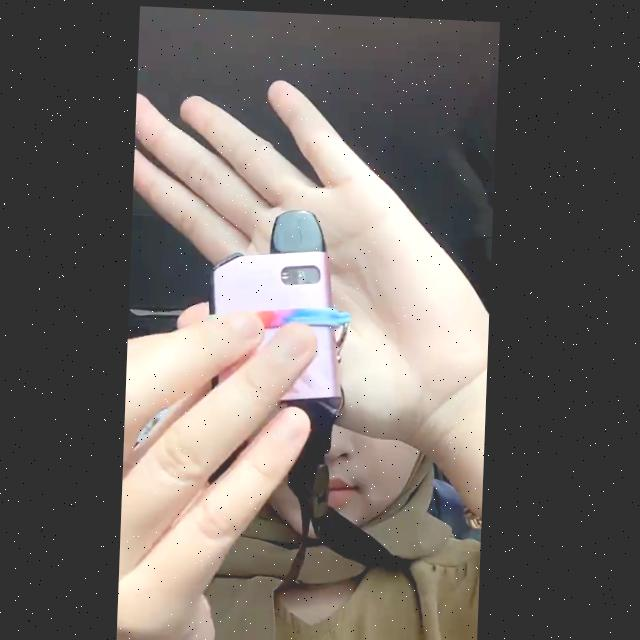vape: (207, 203, 352, 399)
